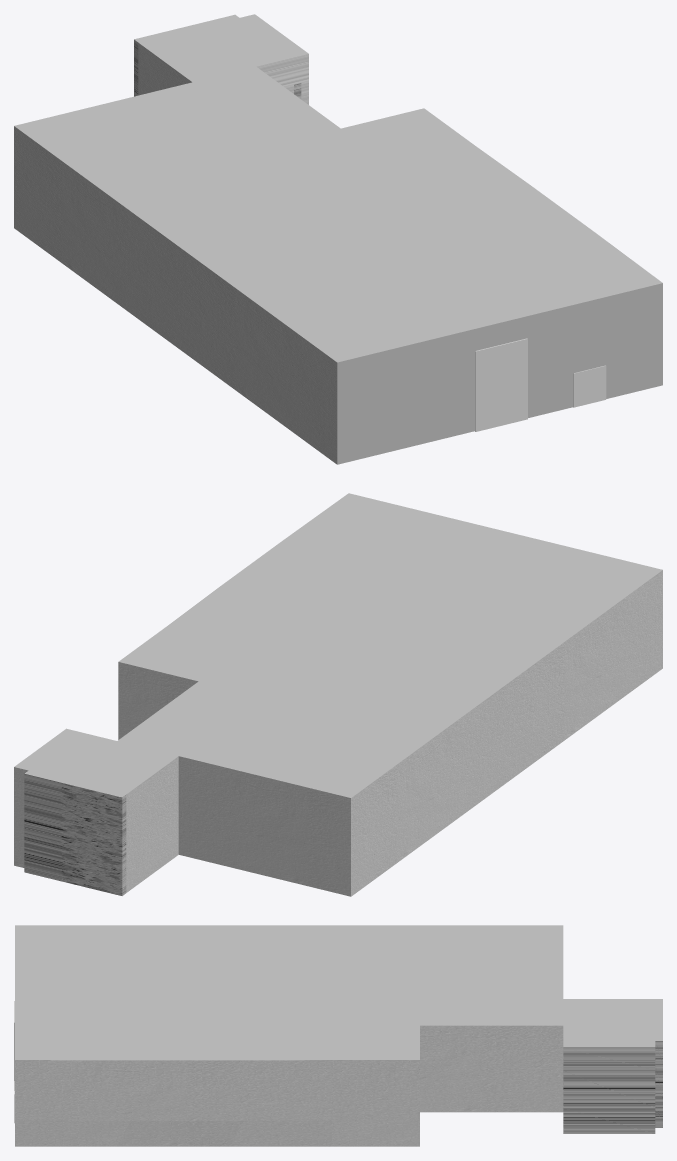
Rendered from tpnormal 1.fbx.
The picture shows the model from 3 angles, top to bottom: view 1: azimuth 30°, elevation 25°; view 2: azimuth 150°, elevation 25°; view 3: azimuth 270°, elevation 25°; orthographic projection. The views are drawn at different scales.
Visible parts, largest first — view 1: Tcho, paredblanca, Cube, barrabar; view 2: Tcho, paredblanca; view 3: Tcho, paredblanca.
Part boxes in pixels (x1,y1,x2,y2): Tcho: [14, 14, 662, 362]; paredblanca: [14, 39, 662, 464]; Cube: [475, 338, 527, 431]; barrabar: [573, 365, 606, 407]; Tcho: [14, 493, 662, 797]; paredblanca: [14, 570, 662, 896]; Tcho: [15, 925, 662, 1060]; paredblanca: [15, 1025, 662, 1146].
Bounding box in the file's own units: 2006 × 606 × 4069.
